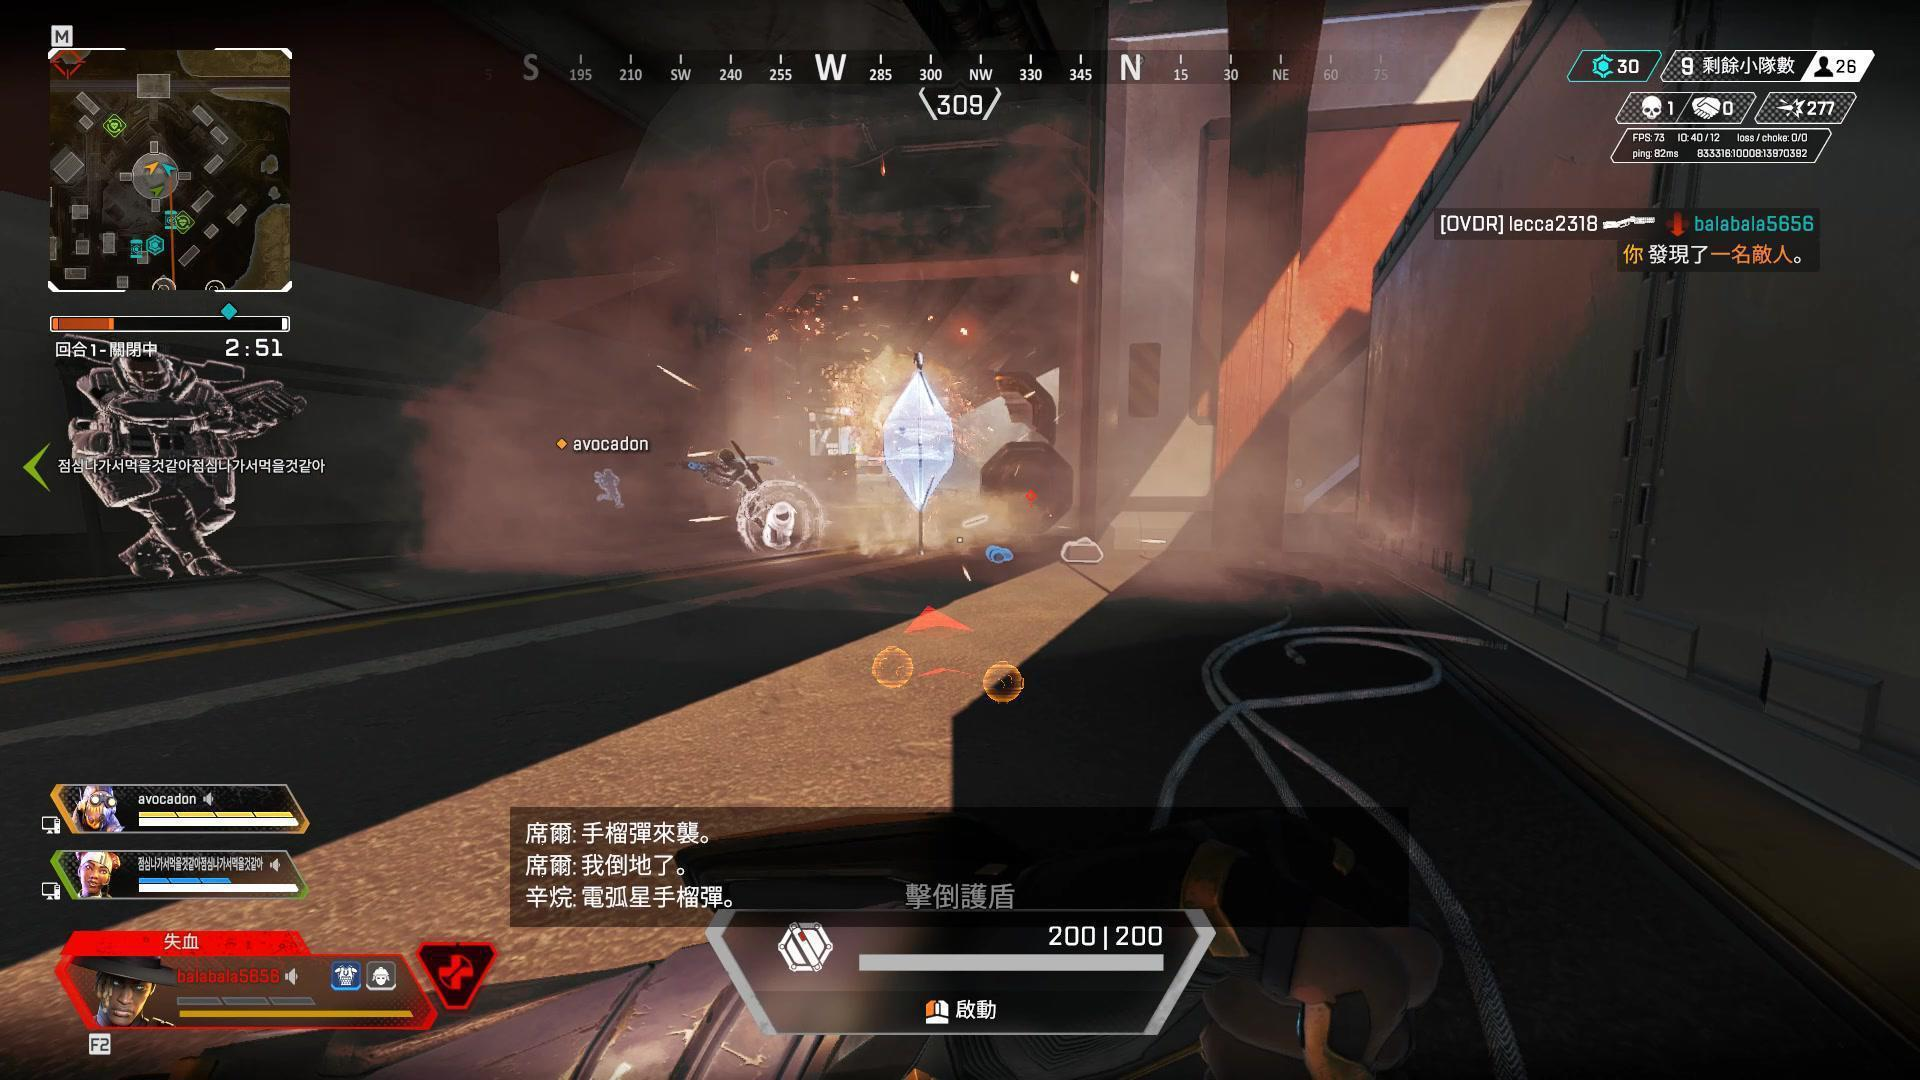avatar: (65, 347, 243, 585), (712, 444, 766, 496)
